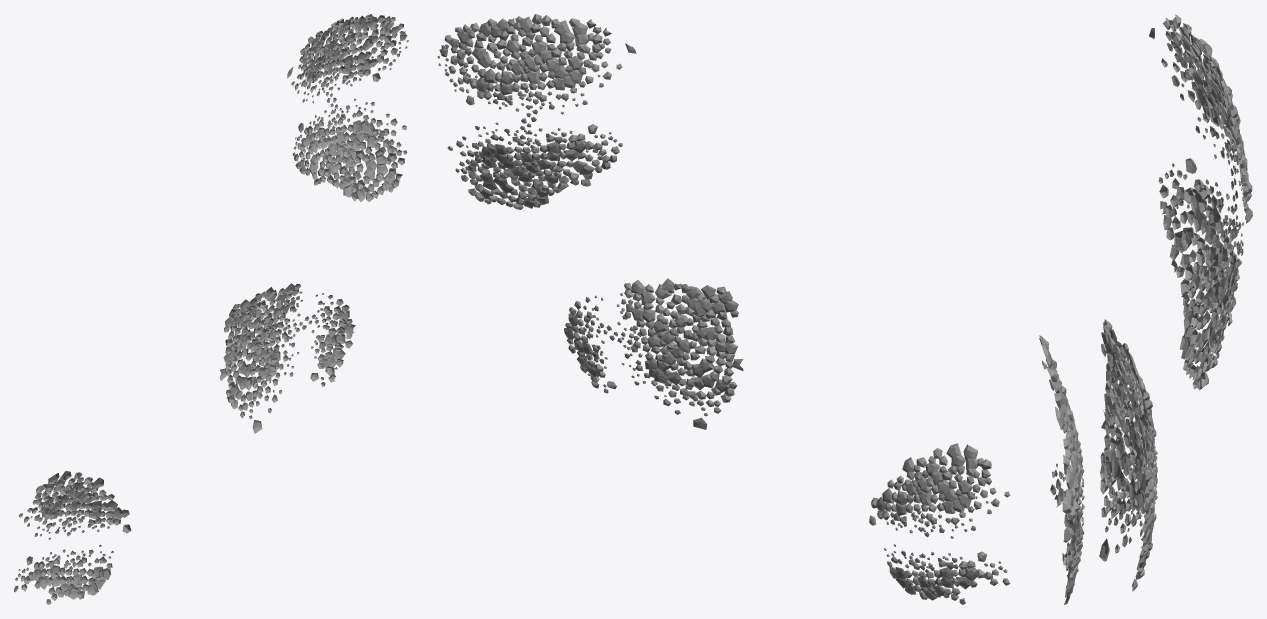
File: Stone000.obj
3 views of the same model, side by side, from view 1: azimuth 30°, elevation 25°; view 2: azimuth 150°, elevation 25°; view 3: azimuth 270°, elevation 25° (orthographic). The views are drawn at different scales.
Parts seen in each view (by area): view 1: pCube100_1__RockBase00; view 2: pCube100_1__RockBase00; view 3: pCube100_1__RockBase00.
Boxes of the visible parts, x1=… form: pCube100_1__RockBase00: x1=14, y1=14, x2=408, y2=604; pCube100_1__RockBase00: x1=437, y1=14, x2=1010, y2=604; pCube100_1__RockBase00: x1=1039, y1=14, x2=1252, y2=604.
Bounding box in the file's own units: 5402 × 5444 × 1319.
Materials: 2 (1 with a texture image).
